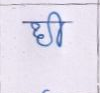i_matra: (50, 11, 64, 46)
